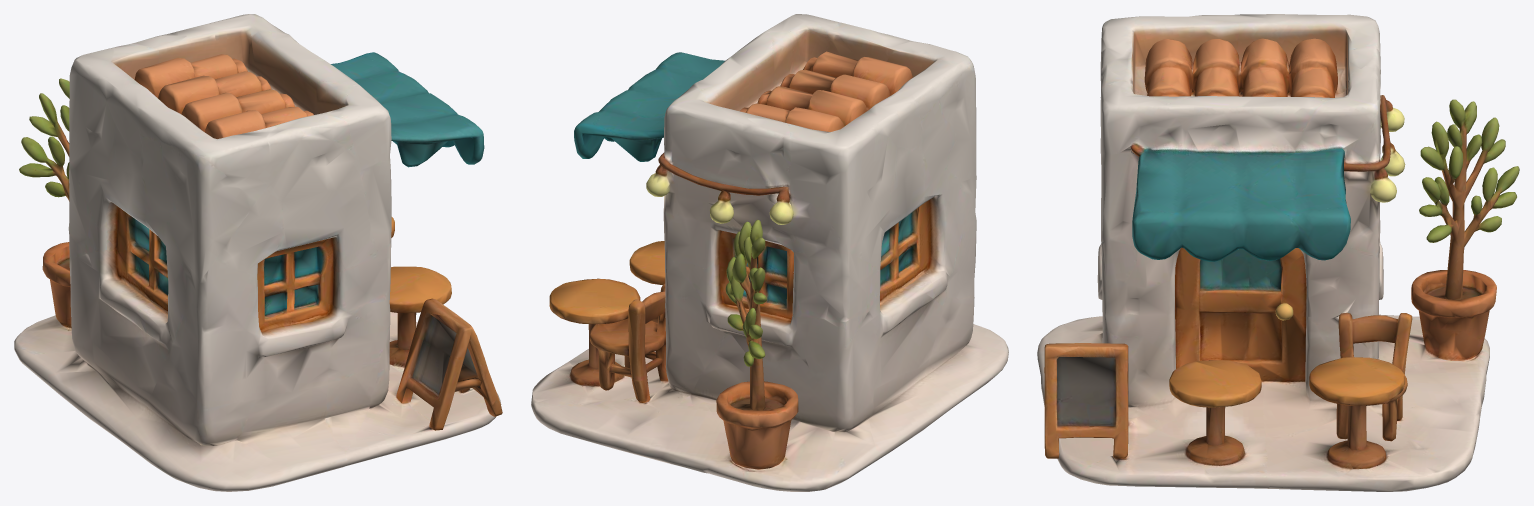
The model's file is cafe.glb.
3 views of the same model, side by side, from view 1: azimuth 30°, elevation 25°; view 2: azimuth 150°, elevation 25°; view 3: azimuth 270°, elevation 25° (orthographic). The views are drawn at different scales.
Visible parts, largest first — view 1: tripo_node_5a82a43b-f3ac-4799-b41b-179175b84cd5; view 2: tripo_node_5a82a43b-f3ac-4799-b41b-179175b84cd5; view 3: tripo_node_5a82a43b-f3ac-4799-b41b-179175b84cd5.
Boxes of the visible parts, x1,y1,x2,y2 form: tripo_node_5a82a43b-f3ac-4799-b41b-179175b84cd5: (14,14,502,491); tripo_node_5a82a43b-f3ac-4799-b41b-179175b84cd5: (531,14,1008,491); tripo_node_5a82a43b-f3ac-4799-b41b-179175b84cd5: (1037,14,1519,491).
Size of the model in its own units: 0.8322 by 0.7568 by 0.9993.
1 material, 1 textured.
